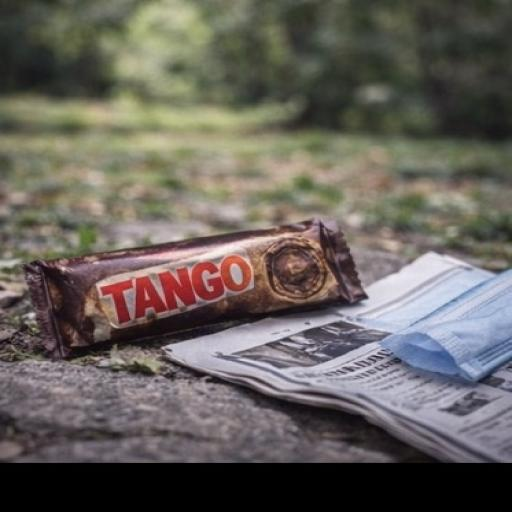tango: (8, 201, 426, 380)
